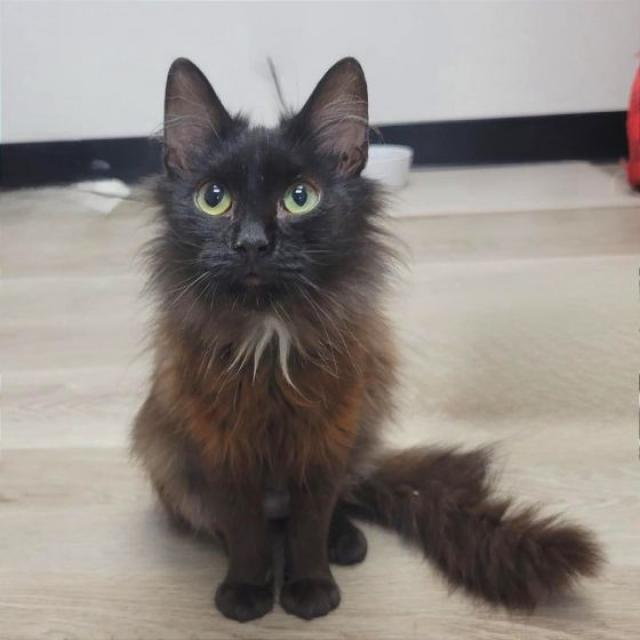domestic_long_hair_cat: (131, 50, 411, 324)
